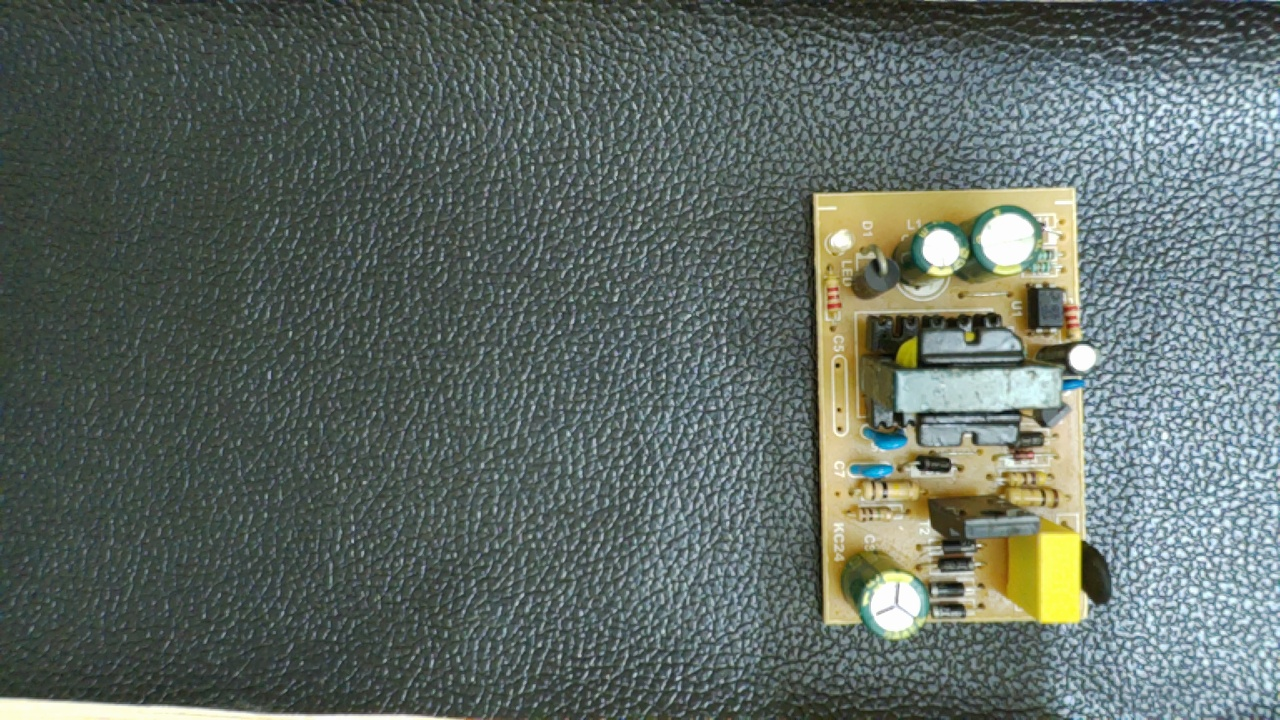fuse: (1068, 525, 1115, 612)
hv_capacitor: (842, 545, 933, 642)
optocoupler: (1019, 276, 1071, 342)
